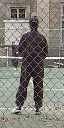person: (17, 10, 45, 114)
